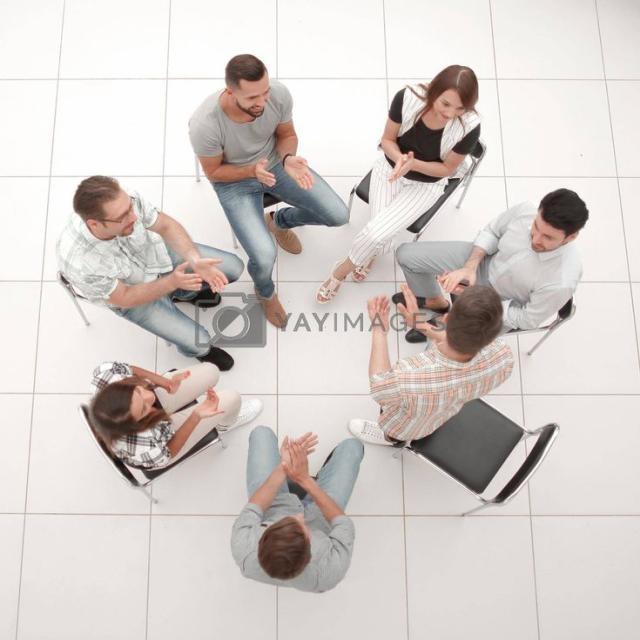obstacle: (392, 396, 560, 516), (77, 401, 226, 502)
person: (187, 53, 350, 330), (315, 63, 482, 304), (55, 174, 245, 372), (392, 188, 588, 344), (348, 283, 514, 447), (230, 424, 365, 594), (87, 360, 263, 470)
